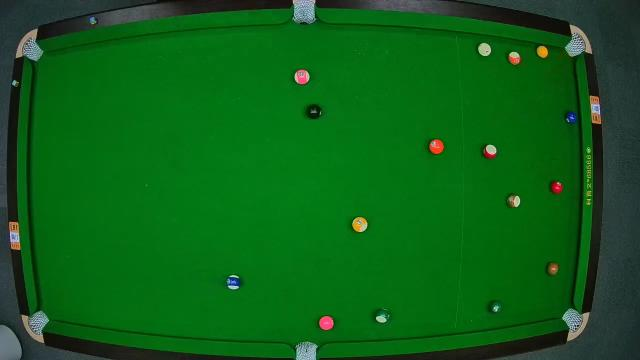bag1: (24, 40, 40, 62)
bag2: (292, 2, 316, 22)
bag3: (566, 34, 584, 56)
bag4: (27, 310, 49, 336)
bag5: (295, 342, 319, 360)
bag6: (562, 308, 584, 332)
ball0: (477, 42, 493, 58)
ball1: (536, 42, 550, 60)
ball10: (225, 274, 243, 292)
ball11: (482, 144, 500, 160)
ball12: (295, 68, 311, 86)
ball13: (506, 50, 522, 63)
ball14: (373, 308, 391, 324)
ball15: (507, 192, 521, 210)
ball2: (565, 110, 579, 126)
ball3: (550, 180, 564, 197)
ball4: (318, 314, 334, 332)
ball5: (428, 136, 444, 156)
ball6: (488, 300, 504, 314)
ball7: (546, 262, 558, 278)
ball8: (304, 105, 324, 120)
ball9: (352, 216, 368, 234)
